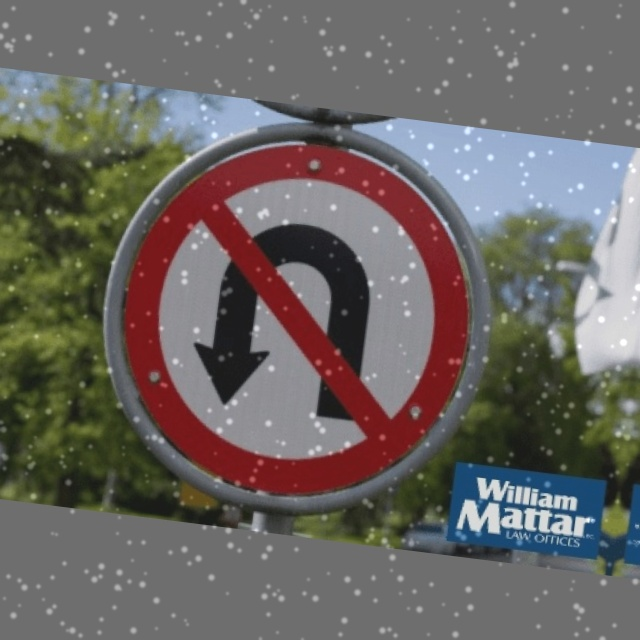U_Turn_Prohibited: (93, 108, 490, 498)
